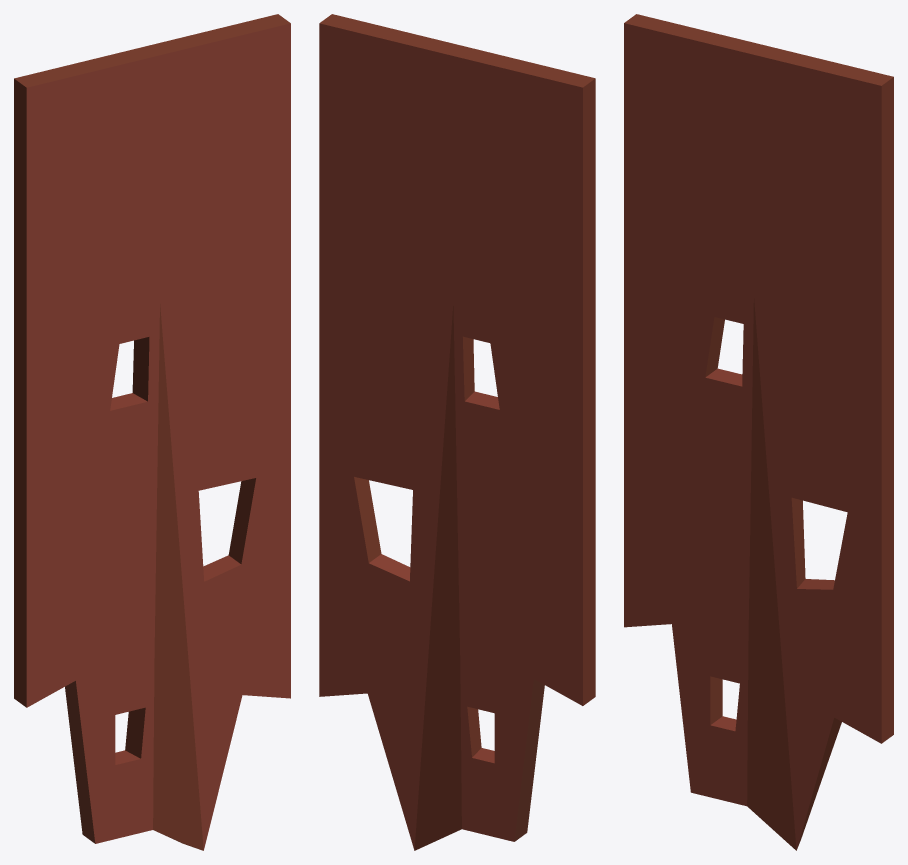
Rendered from ST_Prop_Banner_01.fbx.
3 renders of one model, left to right at view 1: azimuth 30°, elevation 25°; view 2: azimuth 150°, elevation 25°; view 3: azimuth 330°, elevation 25°, orthographic. The views are drawn at different scales.
Parts seen in each view (by area): view 1: ST_Prop_Banner_01; view 2: ST_Prop_Banner_01; view 3: ST_Prop_Banner_01.
Part boxes in pixels (left/top/right/bottom): ST_Prop_Banner_01: left=14, top=14, right=290, bottom=850; ST_Prop_Banner_01: left=319, top=14, right=595, bottom=850; ST_Prop_Banner_01: left=624, top=14, right=893, bottom=850.
Bounding box in the file's own units: 1.99 × 5.8 × 0.1663.
